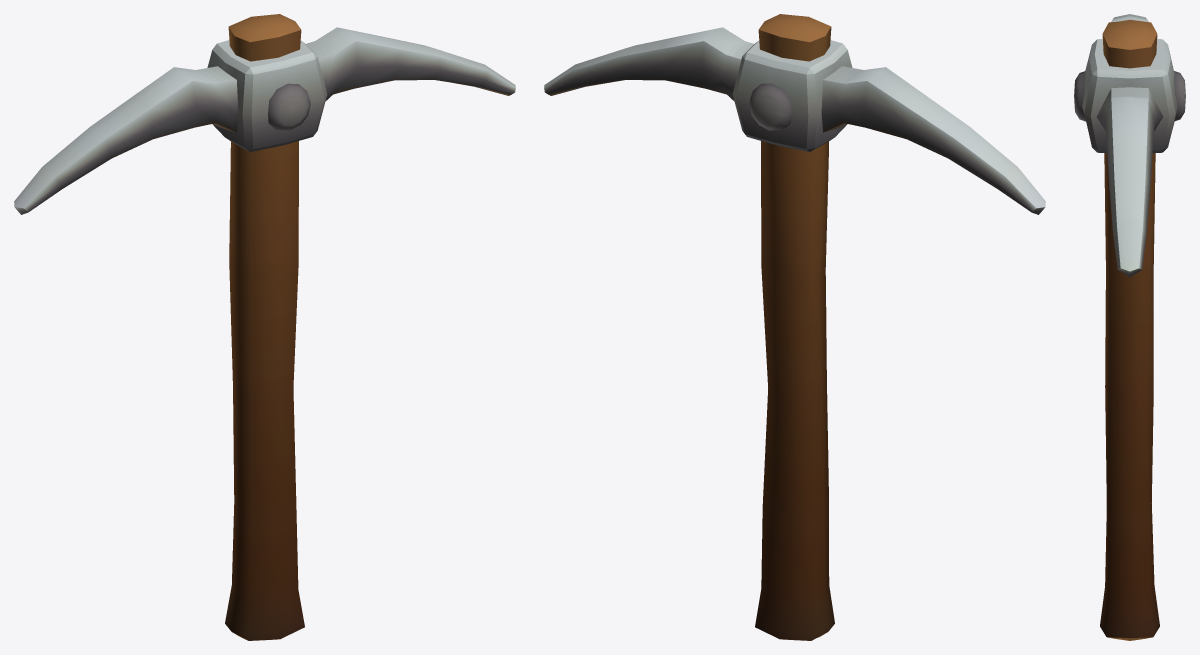
Rendered from Pickaxe_03.glb.
3 renders of one model, left to right at view 1: azimuth 30°, elevation 25°; view 2: azimuth 150°, elevation 25°; view 3: azimuth 270°, elevation 25°, orthographic.
Visible parts, largest first — view 1: Pickaxe_03; view 2: Pickaxe_03; view 3: Pickaxe_03.
Part boxes in pixels (x1,y1,x2,y2): Pickaxe_03: (14, 14, 515, 640); Pickaxe_03: (544, 14, 1045, 640); Pickaxe_03: (1074, 14, 1185, 640).
Bounding box in the file's own units: 0.8812 × 1.03 × 0.1729.
Materials: 1 (1 with a texture image).
